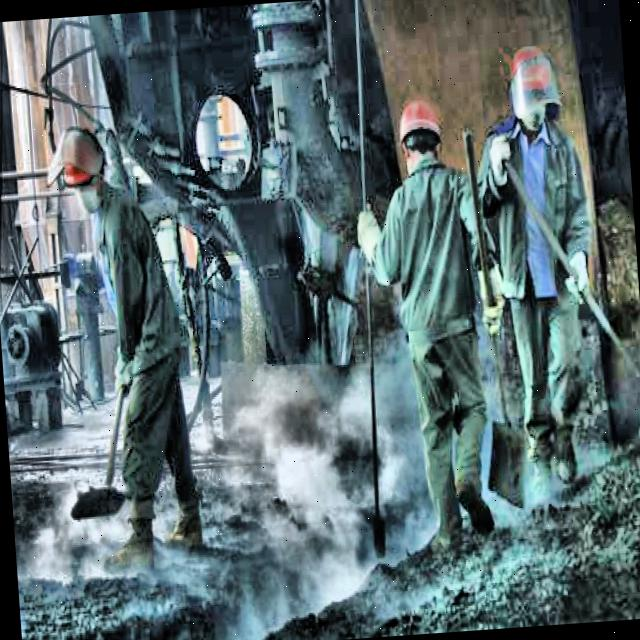helmet: (54, 124, 112, 222), (508, 42, 558, 142), (393, 94, 447, 180)
